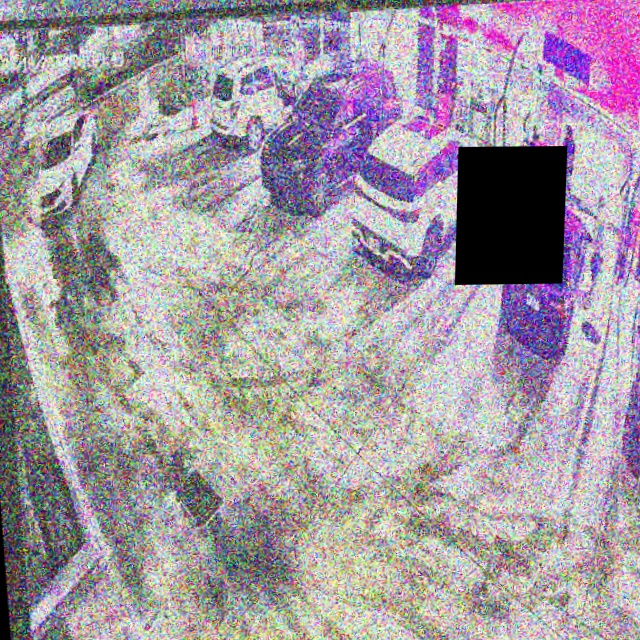Car: (255, 51, 405, 217), (342, 114, 494, 277)
